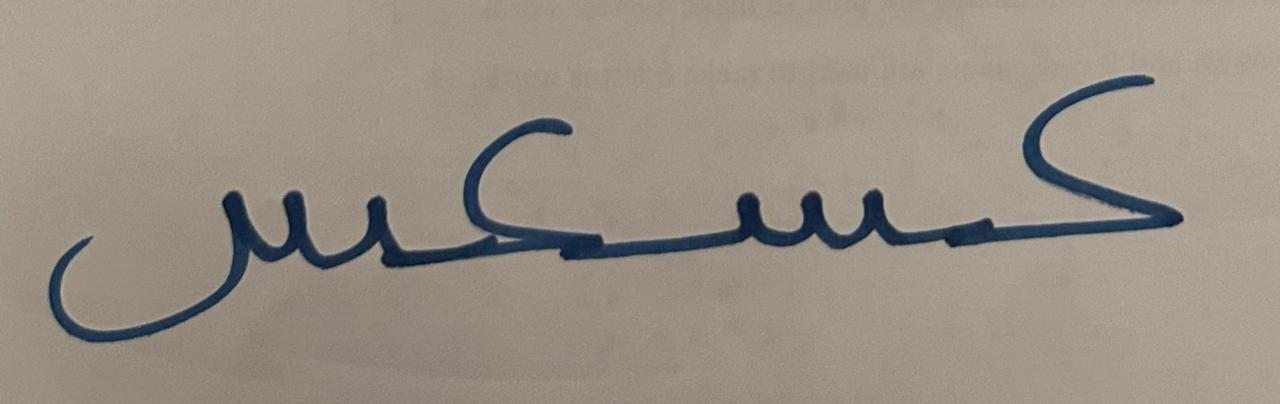ain: (951, 43, 1242, 307), (418, 81, 662, 346)
sheen: (16, 76, 416, 362), (667, 46, 948, 323)
